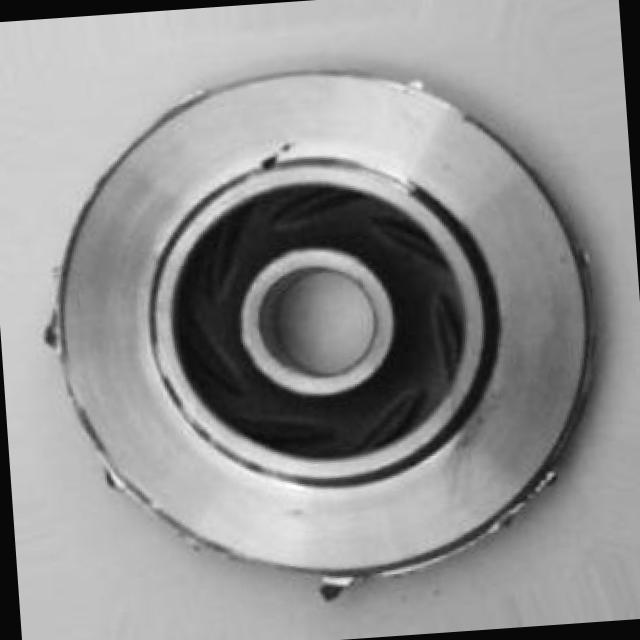Defect: (250, 134, 306, 188)
